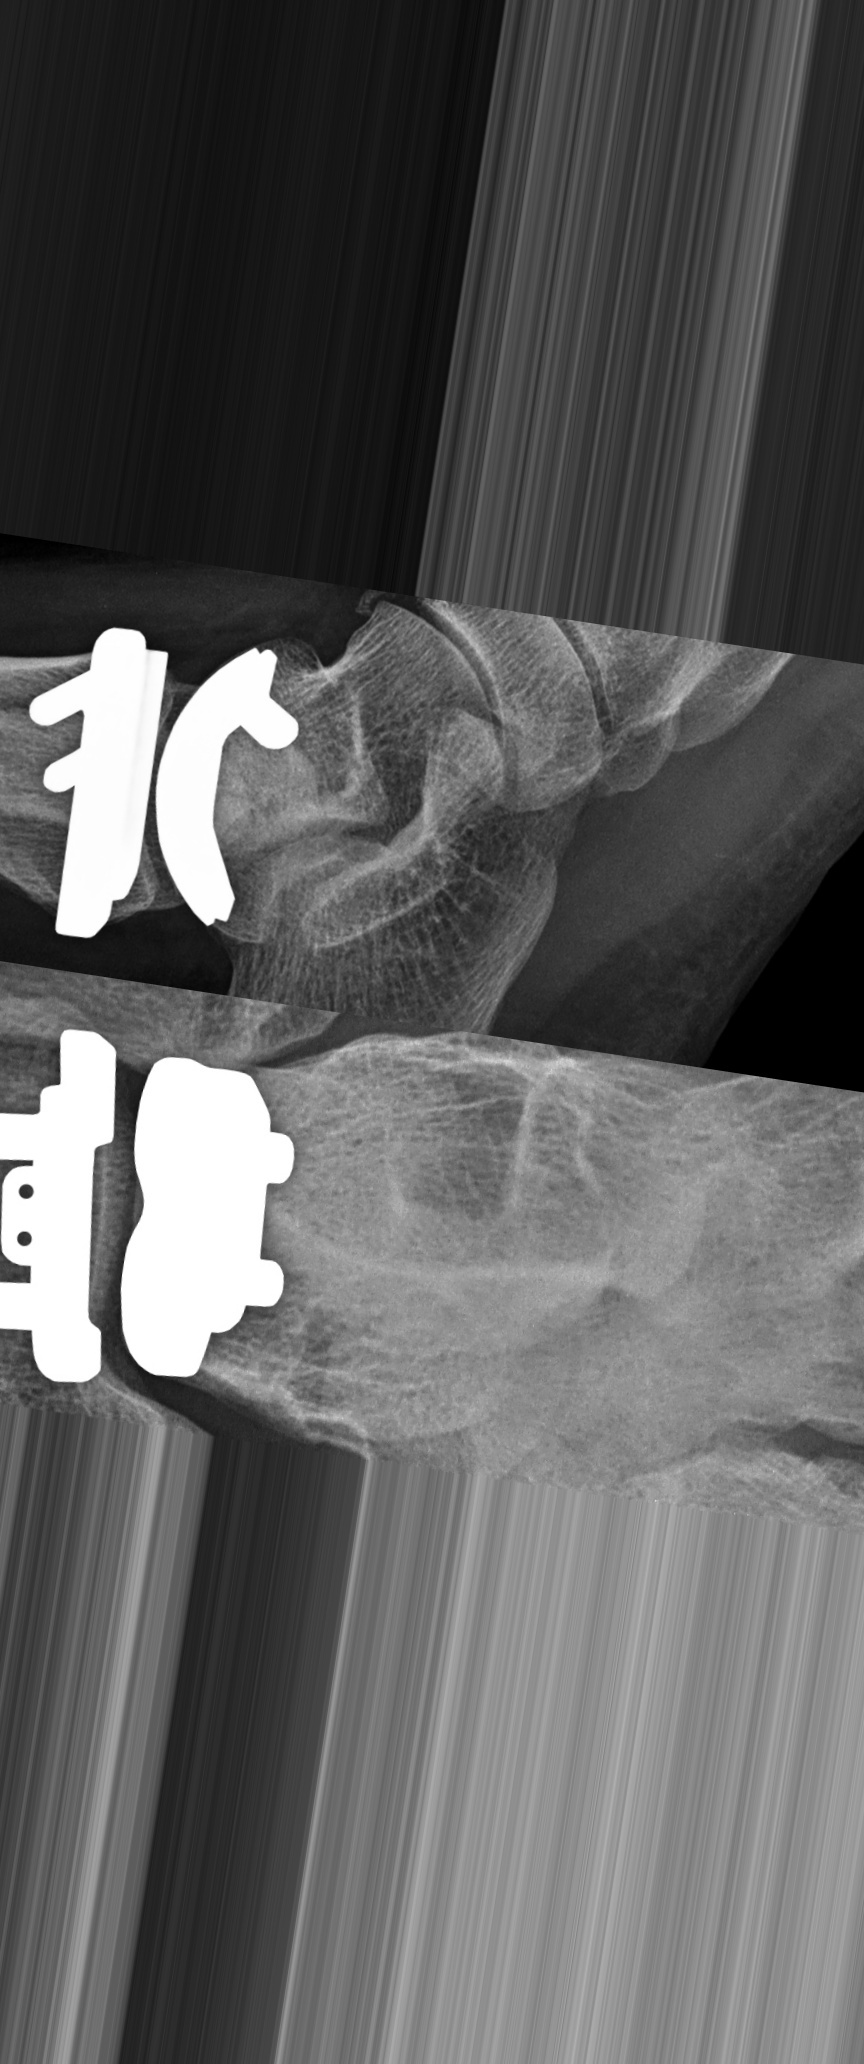Cadence-Integra: (1, 1008, 323, 1395), (20, 616, 302, 950)
